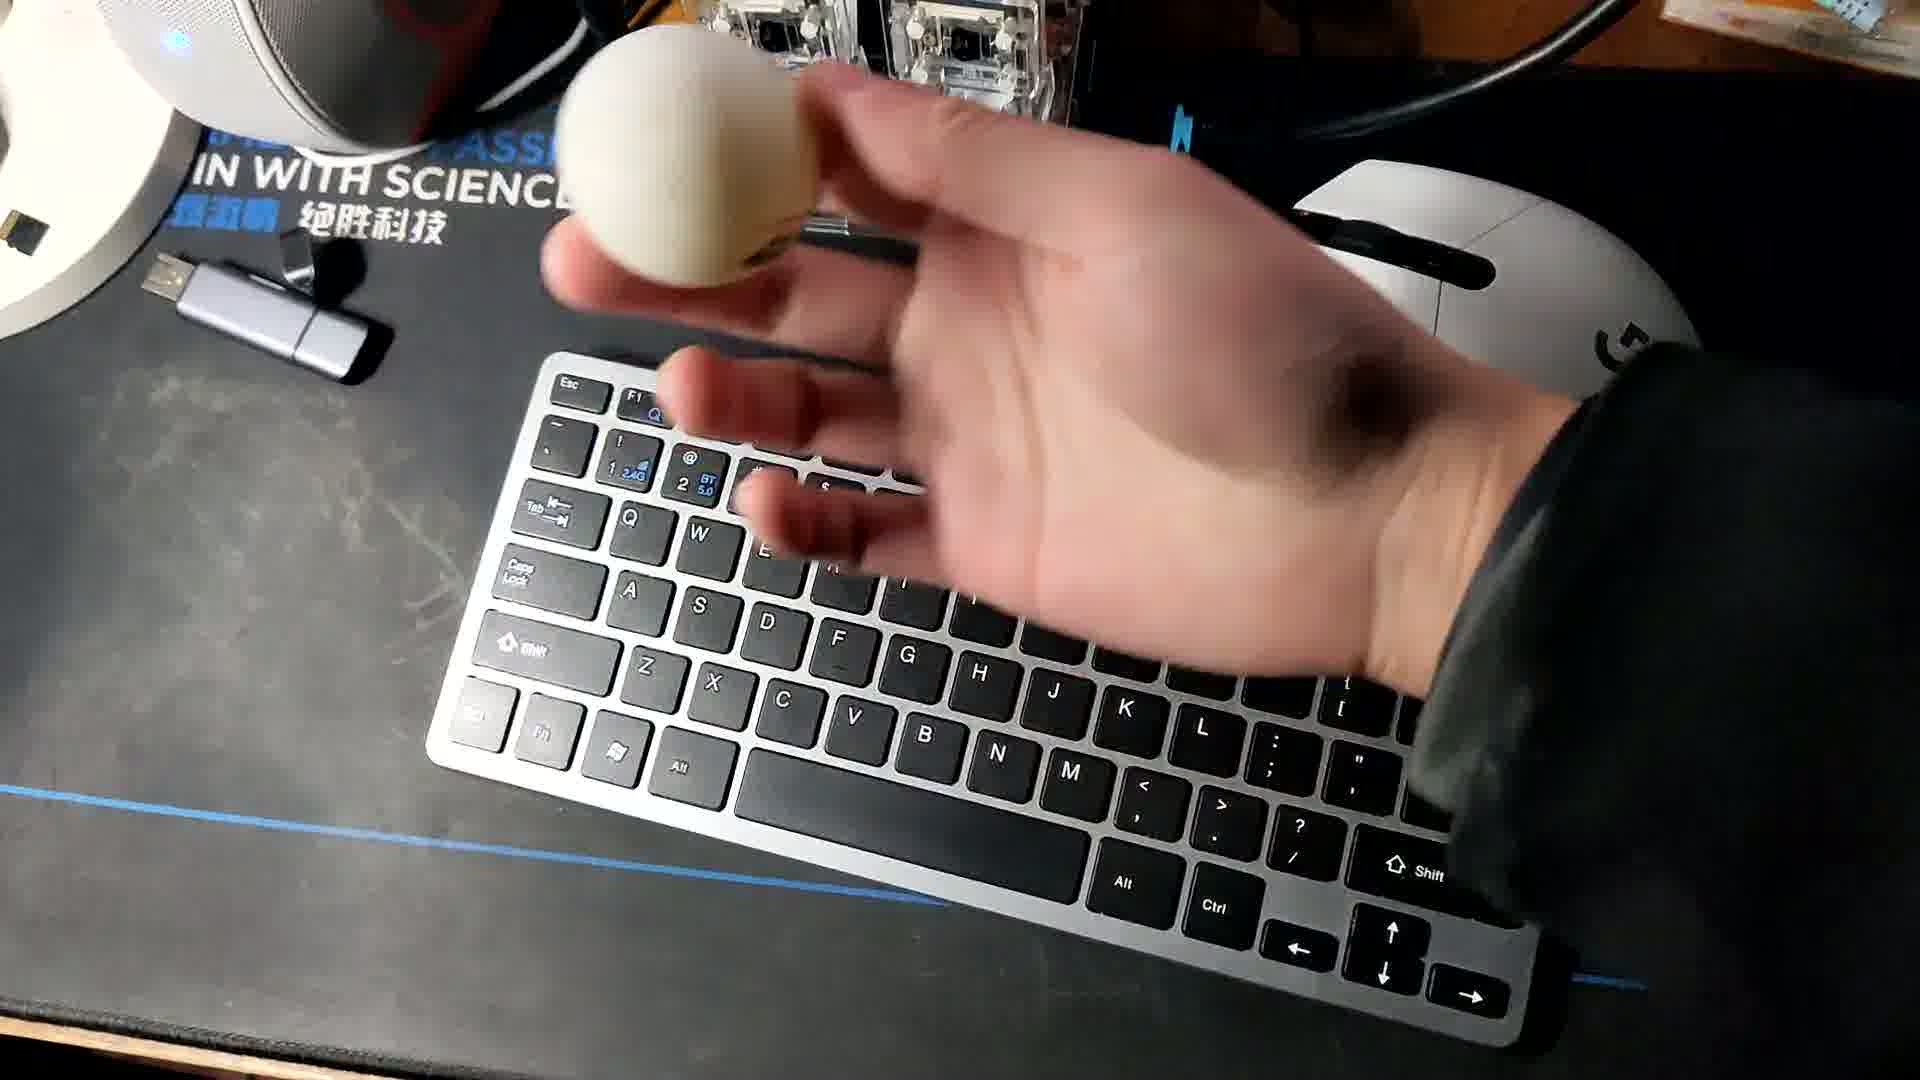Ball: (558, 26, 829, 293)
